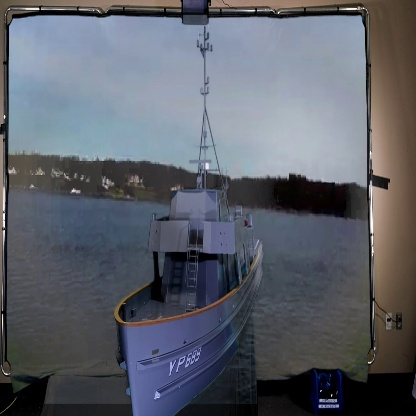YP689: (113, 28, 266, 413)
